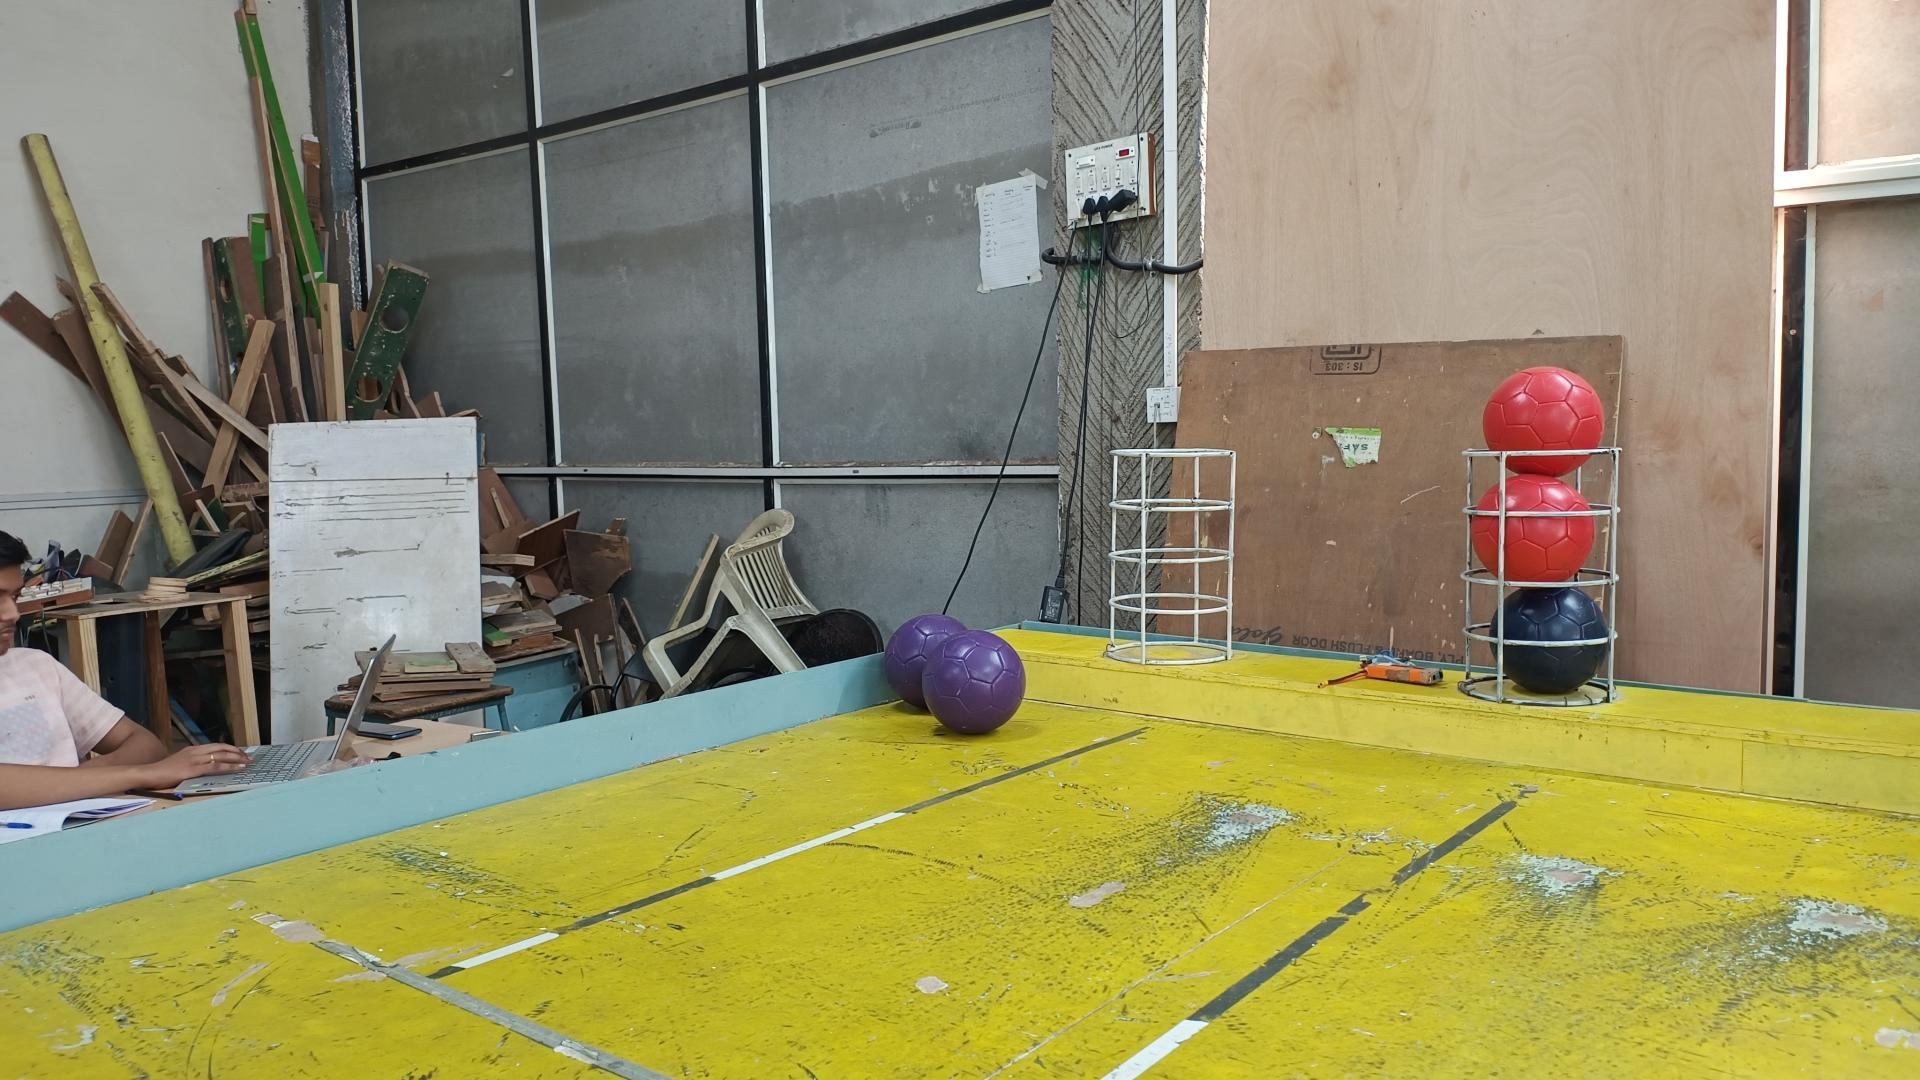dhoka: (1489, 588, 1609, 698)
laale: (1470, 473, 1598, 583), (1484, 367, 1604, 475)
